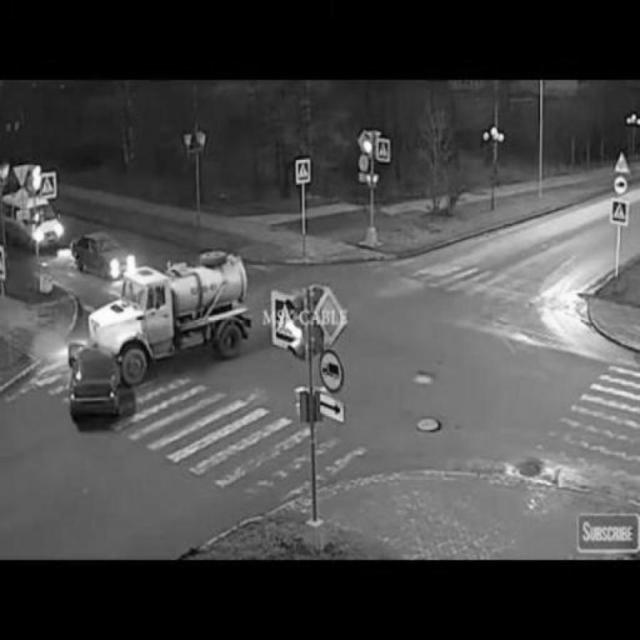accident: (55, 252, 252, 419)
vehicle: (3, 190, 65, 252), (74, 227, 136, 275)
